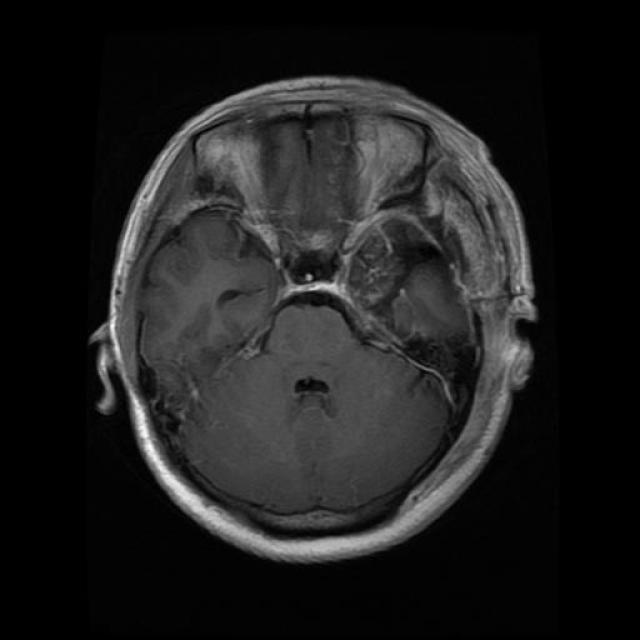Glioma: (389, 259, 471, 340)
